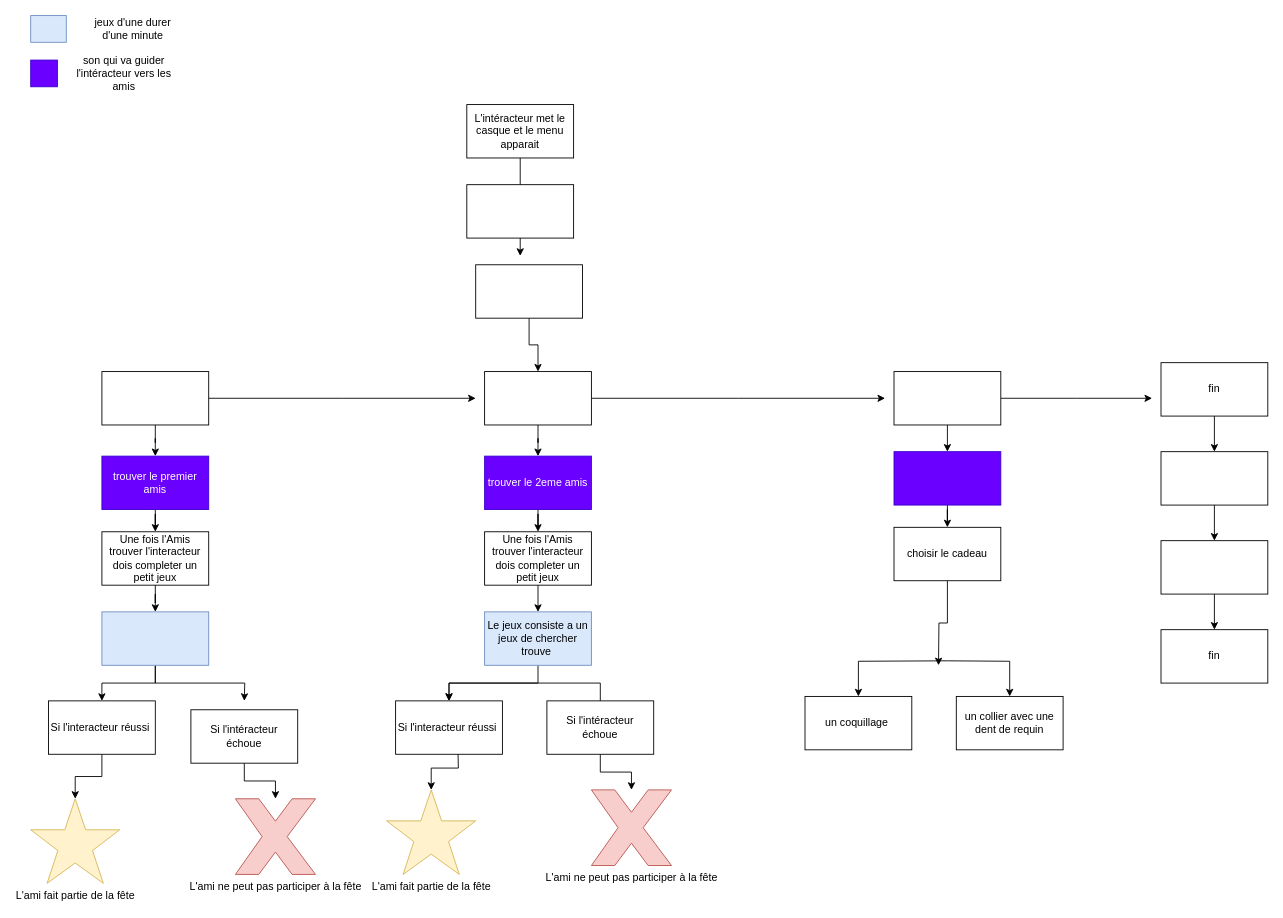
Image size: 1283x918. Some labels were removed from this diagram. The centre of each missing label's shape, as x and y in pixels:
L'intéracteur se retrouve dans les fonds marins: (529,291)
Le jeux consiste a lancer une roche sur une cible pour: (155,638)
les amis recuilli vont a la fête: (1214,478)
les instructions du jeux apparait et l'interaction peut commencer: (520,211)
on donne le cadeau: (1214,567)
Phase 1: (155,398)
Phase 2: (537,398)
Phase 3: (947,398)
trouver le 3eme amis: (947,478)
